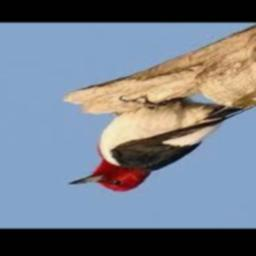Woodpecker: (69, 101, 245, 192)
